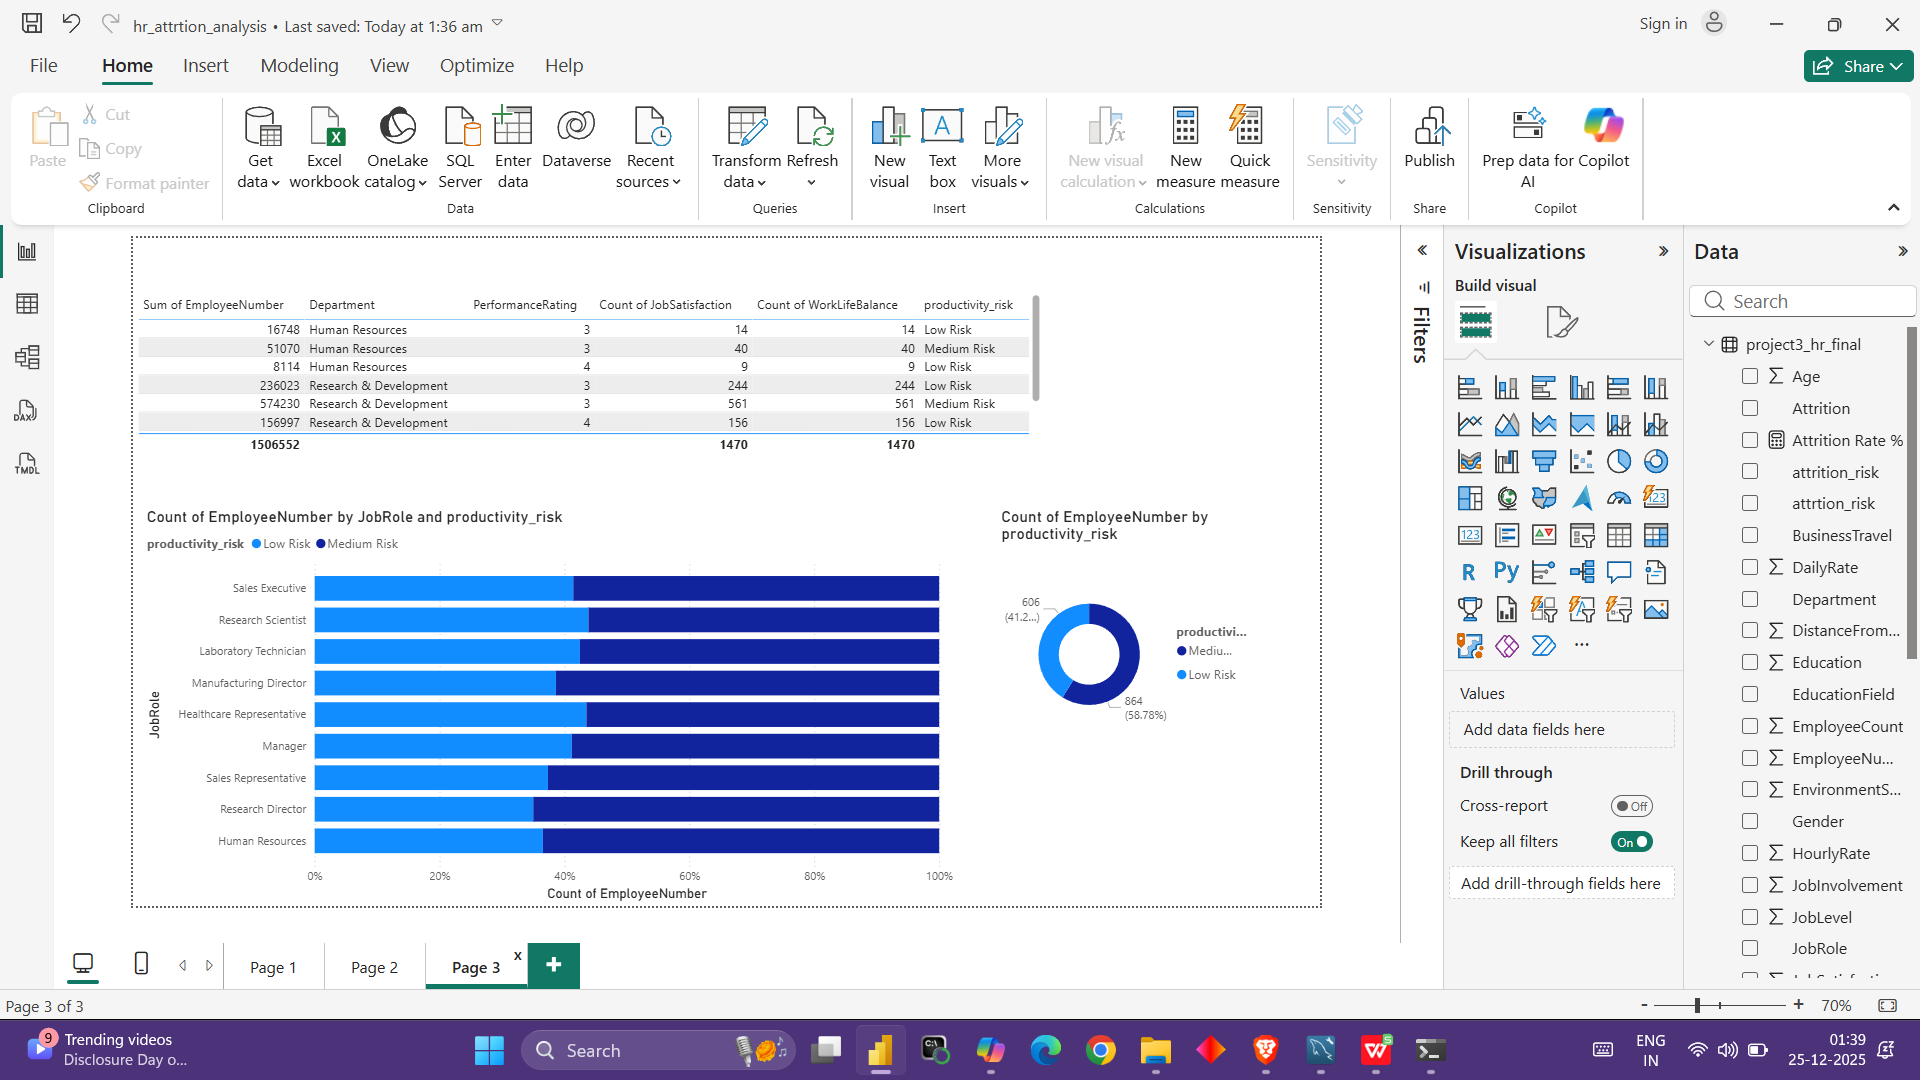

The page's visual inventory and layout, read from the dashboard file:
{"tool":"powerbi","page":{"name":"Page 3","canvas":[1280,720],"ordinal":2},"visuals":[{"type":"donutChart","fields":{"Category":["project3_hr_final.productivity_risk"],"Y":["CountNonNull(project3_hr_final.EmployeeNumber)"]},"box":[931.8,290,279.4,279.4],"z":0},{"type":"hundredPercentStackedBarChart","fields":{"Series":["project3_hr_final.productivity_risk"],"Y":["CountNonNull(project3_hr_final.EmployeeNumber)"],"Category":["project3_hr_final.JobRole"]},"box":[10.6,290,878.9,430.4],"z":1000},{"type":"tableEx","fields":{"Values":["Sum(project3_hr_final.EmployeeNumber)","project3_hr_final.Department","project3_hr_final.PerformanceRating","CountNonNull(project3_hr_final.JobSatisfaction)","CountNonNull(project3_hr_final.WorkLifeBalance)","project3_hr_final.productivity_risk"]},"box":[0,55.9,983.1,179.7],"z":1001}]}

Visuals, with their boxes on the page's 1280x720 design canvas (x1, y1, x2, y2). These are canvas units, not pixel positions in the 1920x1080 screenshot, which may show the page scaled, cropped or inside an application window:
donutChart - project3_hr_final.productivity_risk x CountNonNull(project3_hr_final.EmployeeNumber): 932/290/1211/569
hundredPercentStackedBarChart - project3_hr_final.productivity_risk x CountNonNull(project3_hr_final.EmployeeNumber): 11/290/890/720
tableEx - Sum(project3_hr_final.EmployeeNumber) x project3_hr_final.Department: 0/56/983/236
